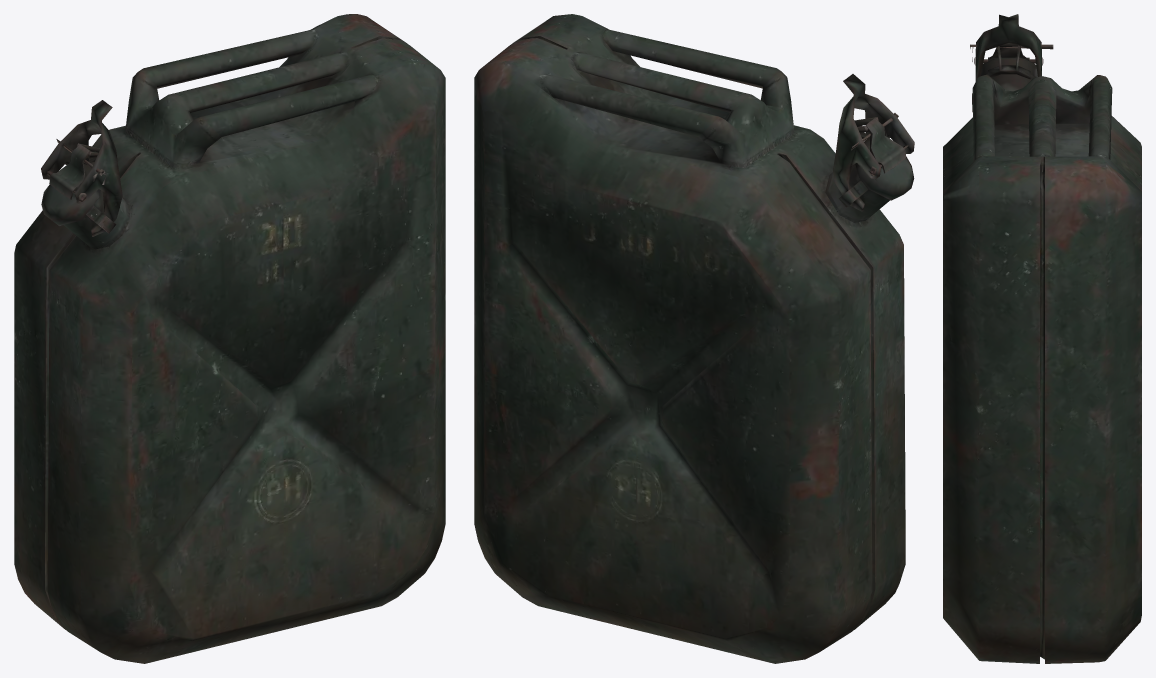
The model's file is metal_jerrycan_green.glb.
The picture shows the model from 3 angles, left to right: view 1: azimuth 30°, elevation 25°; view 2: azimuth 150°, elevation 25°; view 3: azimuth 270°, elevation 25°; orthographic projection. The views are drawn at different scales.
Parts seen in each view (by area): view 1: metal_jerrycan_green_pin; view 2: metal_jerrycan_green_pin; view 3: metal_jerrycan_green_pin.
Part boxes in pixels (x1,y1,x2,y2): metal_jerrycan_green_pin: (14,14,445,663); metal_jerrycan_green_pin: (474,14,914,663); metal_jerrycan_green_pin: (943,14,1141,663).
Size of the model in its own units: 0.36 by 0.4982 by 0.1709.
1 material, 1 textured.
